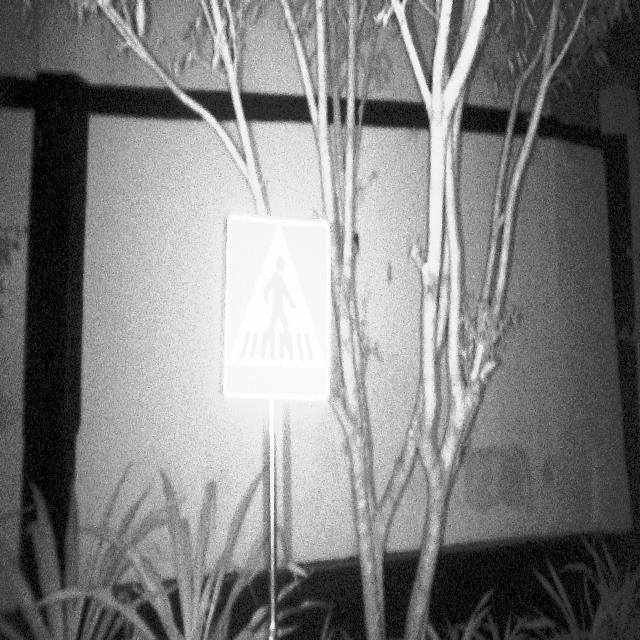Sign: (222, 210, 332, 405)
